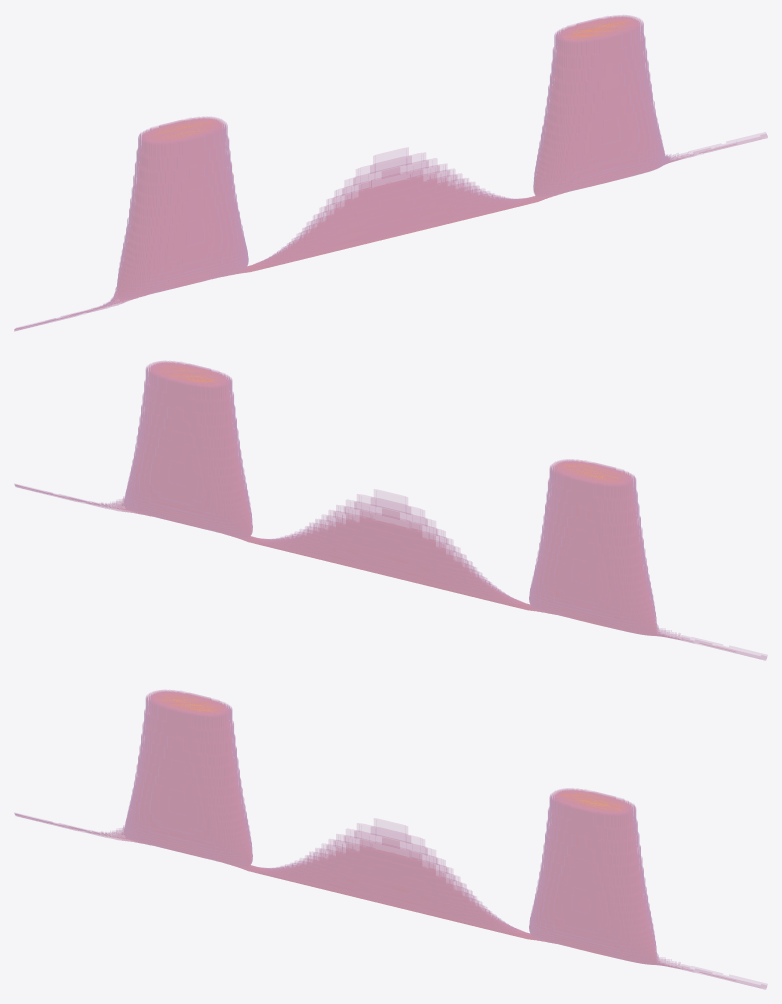
File: phase.glb
3 renders of one model, top to bottom at view 1: azimuth 30°, elevation 25°; view 2: azimuth 150°, elevation 25°; view 3: azimuth 330°, elevation 25°, orthographic. The views are drawn at different scales.
Parts seen in each view (by area): view 1: Ions1, Ions0, Ions2; view 2: Ions1, Ions0, Ions2; view 3: Ions1, Ions0, Ions2.
Boxes of the visible parts, <box> form: Ions1: <box>15,20,761,329</box>; Ions0: <box>14,21,736,330</box>; Ions2: <box>111,17,677,303</box>; Ions1: <box>15,365,760,658</box>; Ions0: <box>14,366,705,645</box>; Ions2: <box>123,363,713,646</box>; Ions1: <box>15,692,760,987</box>; Ions0: <box>14,695,705,974</box>; Ions2: <box>119,692,713,975</box>.
Bounding box in the file's own units: 6.6 × 1.28 × 0.3847.
